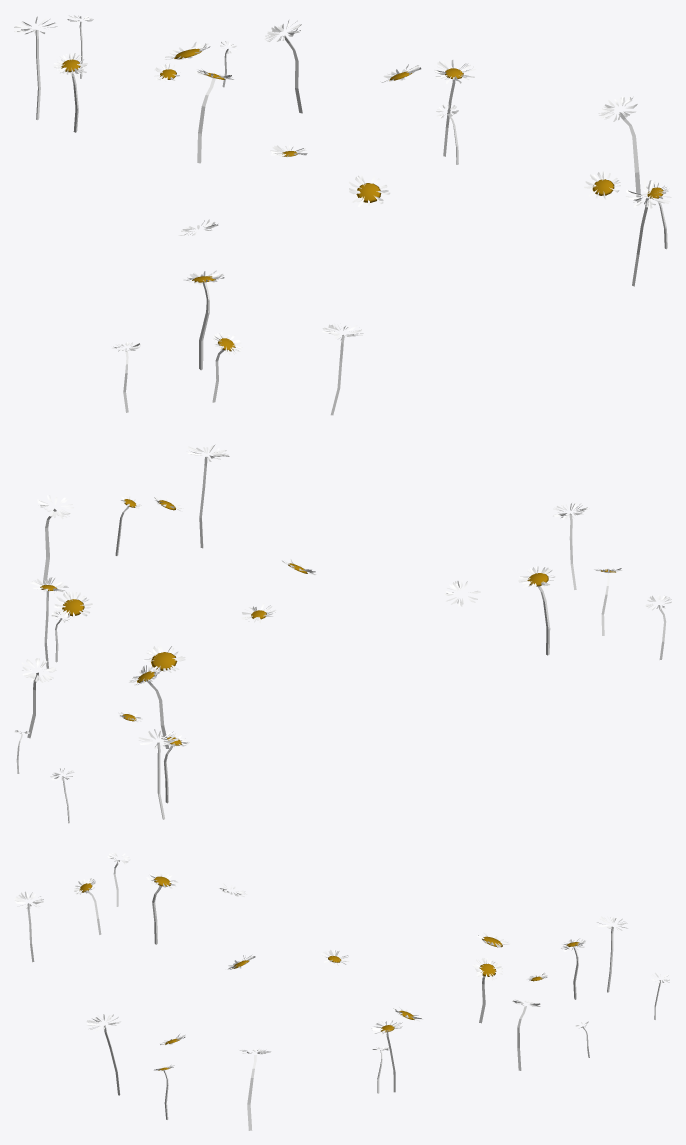
Rendered from daisies.gltf.
3 renders of one model, top to bottom at view 1: azimuth 30°, elevation 25°; view 2: azimuth 150°, elevation 25°; view 3: azimuth 270°, elevation 25°, orthographic. The views are drawn at different scales.
Parts seen in each view (by area): view 1: Daisies; view 2: Daisies; view 3: Daisies.
Boxes of the visible parts, x1=… form: Daisies: x1=14, y1=15, x2=671, y2=415; Daisies: x1=14, y1=444, x2=671, y2=823; Daisies: x1=14, y1=852, x2=669, y2=1130.
Size of the model in its own units: 0.4923 by 0.0877 by 0.6003.
